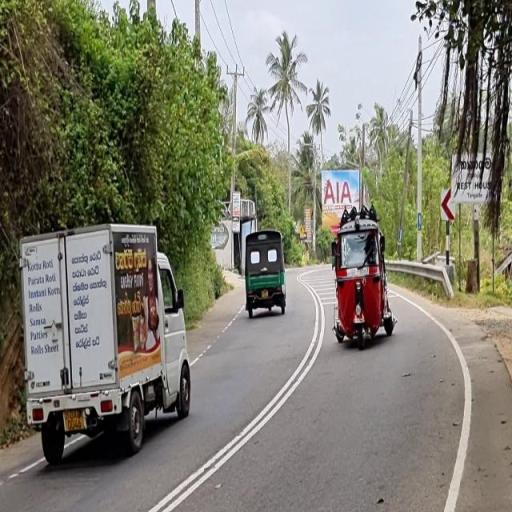double_white_line: (142, 281, 326, 511)
